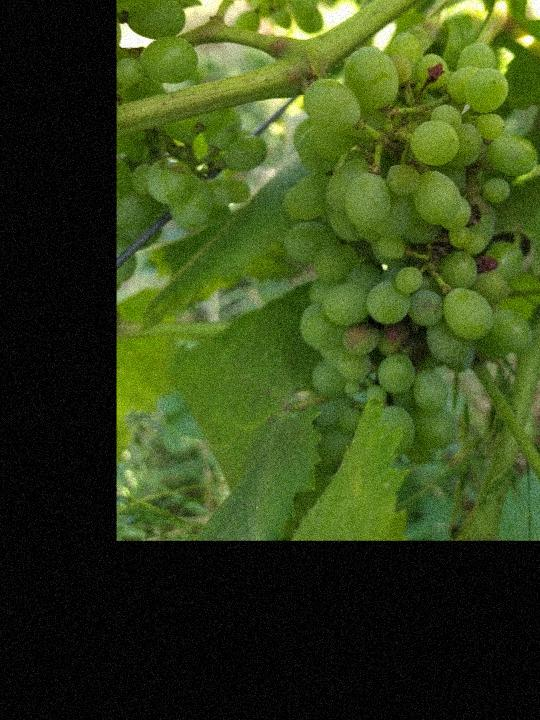grape: (277, 31, 539, 478)
